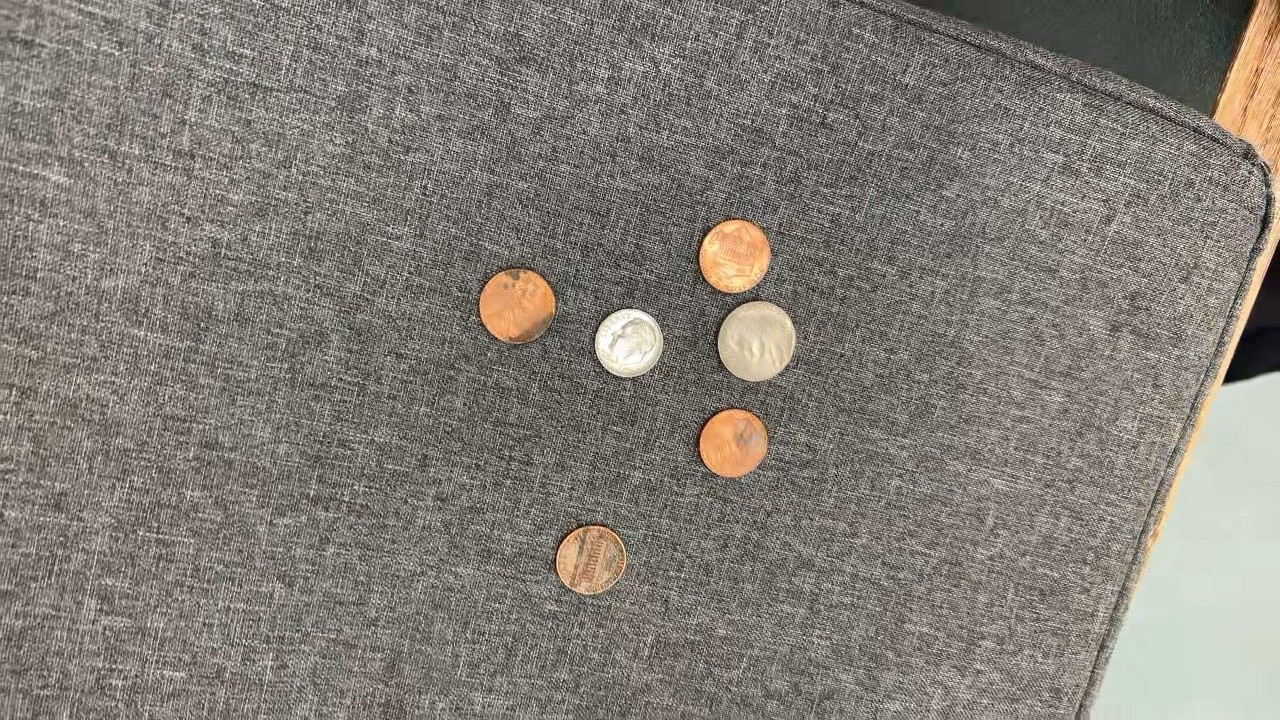dime: (589, 308, 665, 382)
nickle: (714, 300, 799, 384)
penny: (474, 266, 561, 348), (698, 216, 773, 293), (552, 522, 631, 594), (698, 401, 768, 477)
